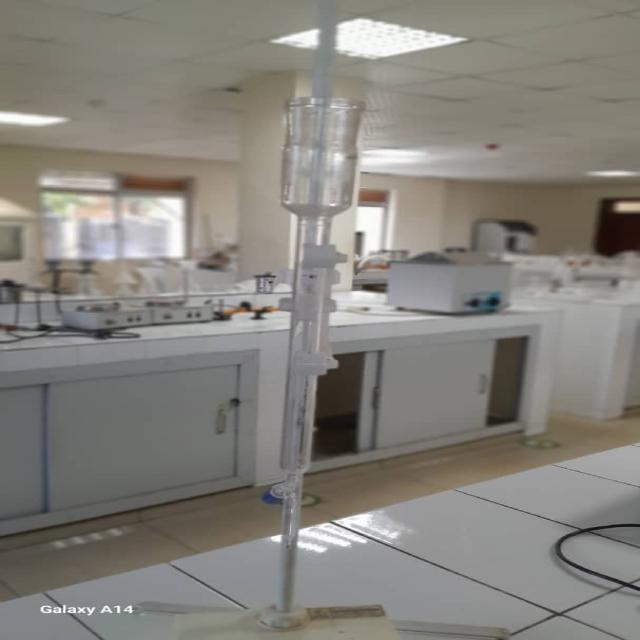Column Chromatography: (234, 96, 383, 622)
